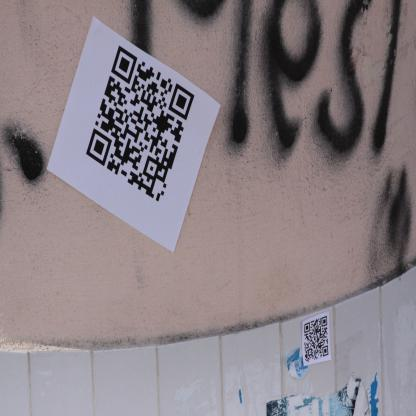qr_code: (86, 45, 193, 202)
